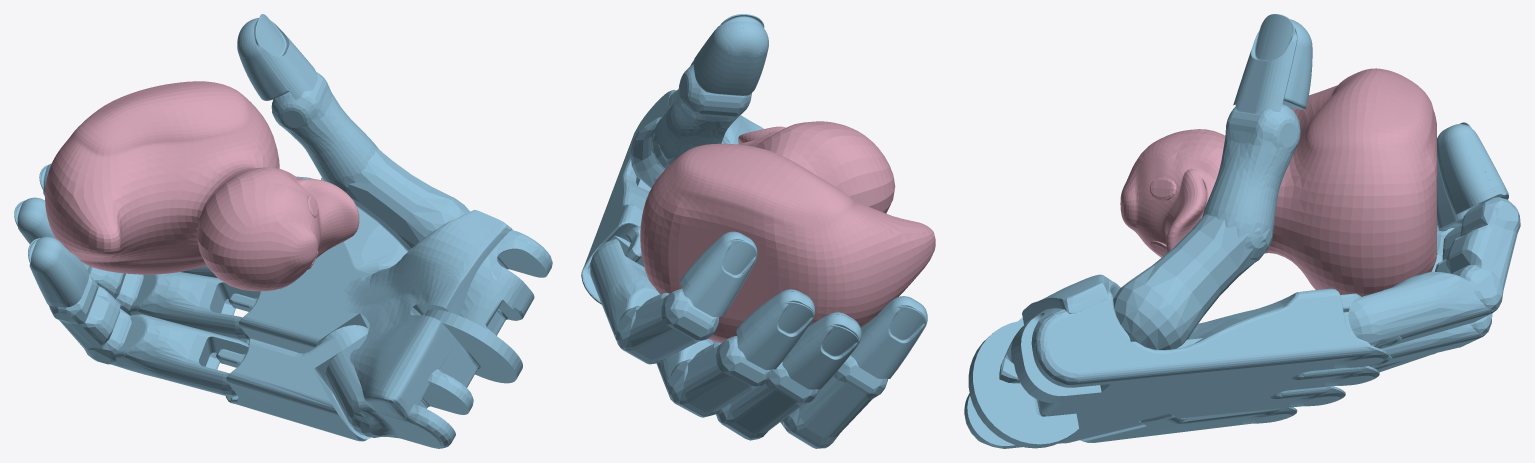
3 views of the same model, side by side, from view 1: azimuth 30°, elevation 25°; view 2: azimuth 150°, elevation 25°; view 3: azimuth 270°, elevation 25° (orthographic). The views are drawn at different scales.
Parts seen in each view (by area): view 1: world; view 2: world; view 3: world.
Boxes of the visible parts, <box> form: world: <box>14,14,552,448</box>; world: <box>581,14,935,448</box>; world: <box>964,14,1520,448</box>.
Size of the model in its own units: 0.1573 by 0.1419 by 0.1685.
